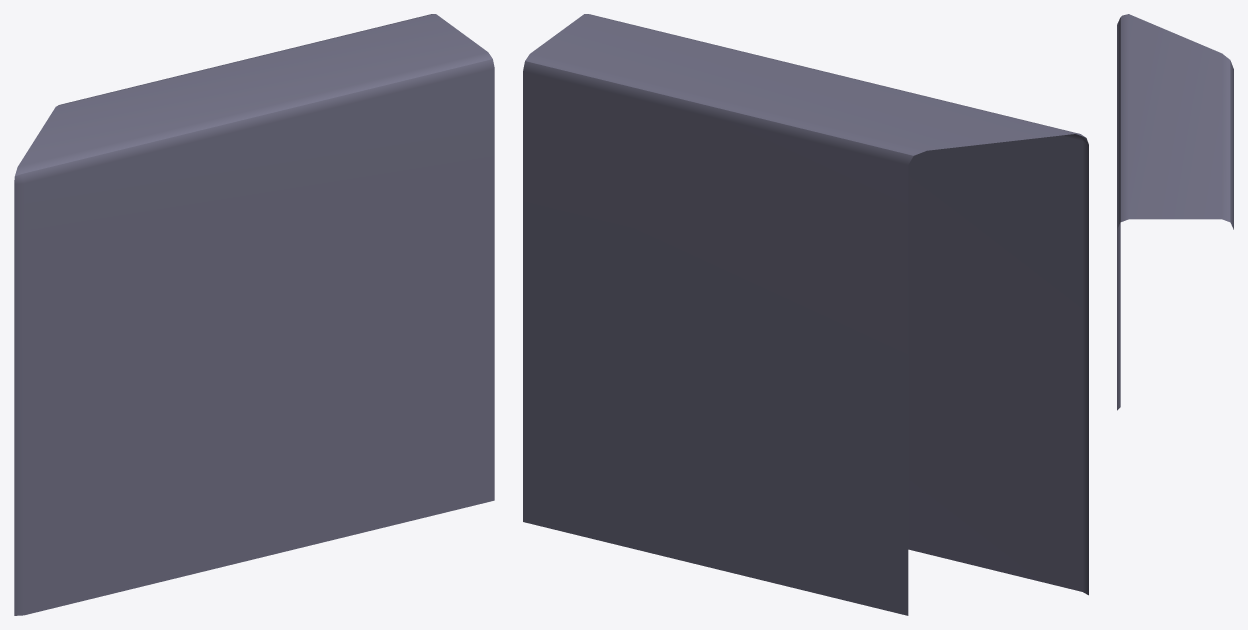
The model's file is SM_BaseL.fbx.
3 renders of one model, left to right at view 1: azimuth 30°, elevation 25°; view 2: azimuth 150°, elevation 25°; view 3: azimuth 270°, elevation 25°, orthographic. The views are drawn at different scales.
Parts seen in each view (by area): view 1: pCube6; view 2: pCube6; view 3: pCube6.
Boxes of the visible parts, left/top/right/bottom form: pCube6: left=14, top=14, right=494, bottom=615; pCube6: left=523, top=14, right=1088, bottom=615; pCube6: left=1117, top=14, right=1233, bottom=410.
Bounding box in the file's own units: 339 × 300 × 80.
